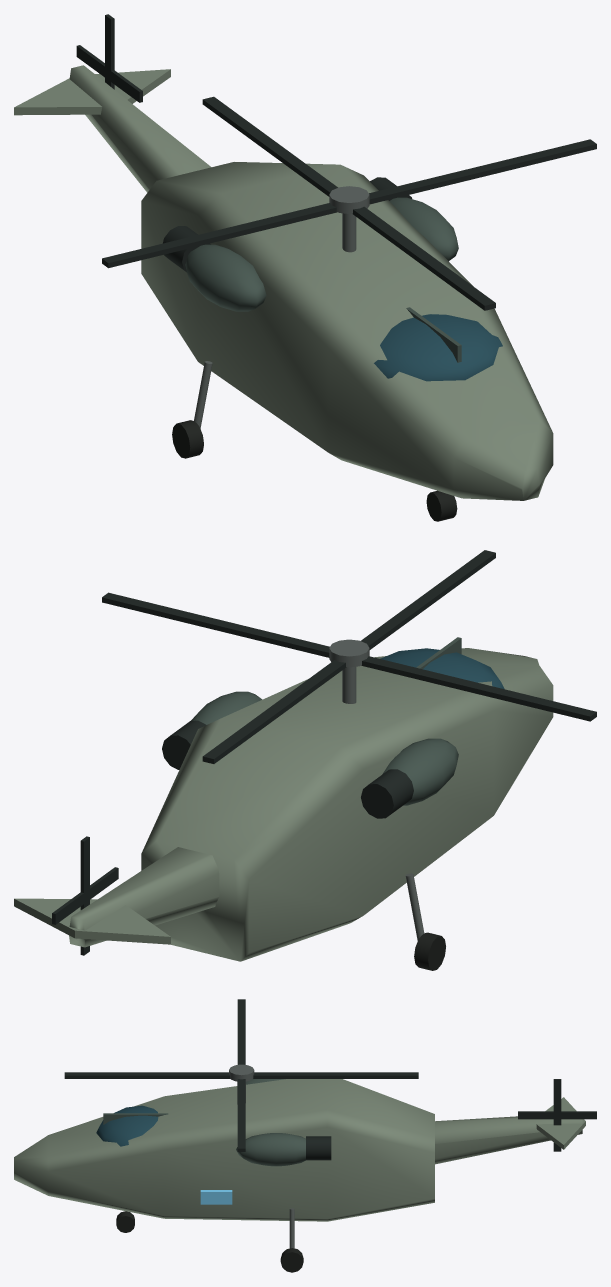
The model's file is transport.glb.
3 views of the same model, one above another, from view 1: azimuth 30°, elevation 25°; view 2: azimuth 150°, elevation 25°; view 3: azimuth 270°, elevation 25° (orthographic). The views are drawn at different scales.
Visible parts, largest first — view 1: armor, dark (×3), trim, glass, rubber, steel; view 2: armor, dark (×3), trim, glass, steel (×2), rubber; view 3: armor, dark (×3), trim, glass, rubber, marking, steel.
Boxes of the visible parts, left/top/right/bottom form: armor: left=14, top=65, right=553, bottom=500; dark (×3): left=76, top=14, right=596, bottom=310; trim: left=185, top=197, right=461, bottom=362; glass: left=374, top=314, right=502, bottom=381; rubber: left=172, top=420, right=457, bottom=521; steel: left=329, top=186, right=369, bottom=213; armor: left=14, top=648, right=553, bottom=961; dark (×3): left=52, top=550, right=596, bottom=955; trim: left=191, top=637, right=461, bottom=805; glass: left=380, top=648, right=504, bottom=689; steel (×2): left=329, top=639, right=424, bottom=940; rubber: left=414, top=932, right=445, bottom=970; armor: left=14, top=1079, right=585, bottom=1221; dark (×3): left=64, top=999, right=596, bottom=1160; trim: left=103, top=1079, right=305, bottom=1166; glass: left=96, top=1105, right=158, bottom=1146; rubber: left=116, top=1211, right=303, bottom=1272; marking: left=200, top=1190, right=232, bottom=1204; steel: left=229, top=1064, right=254, bottom=1081.
Size of the model in its own units: 5.6 by 2.86 by 9.23.
